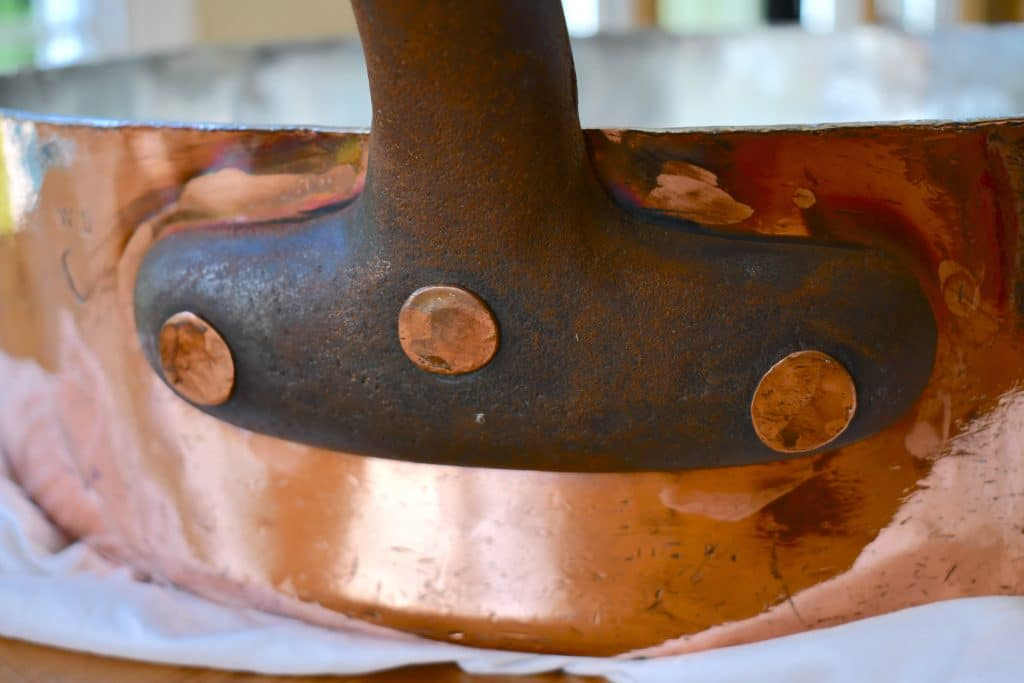rust: (754, 352, 855, 449), (395, 287, 503, 373), (160, 316, 235, 407)
